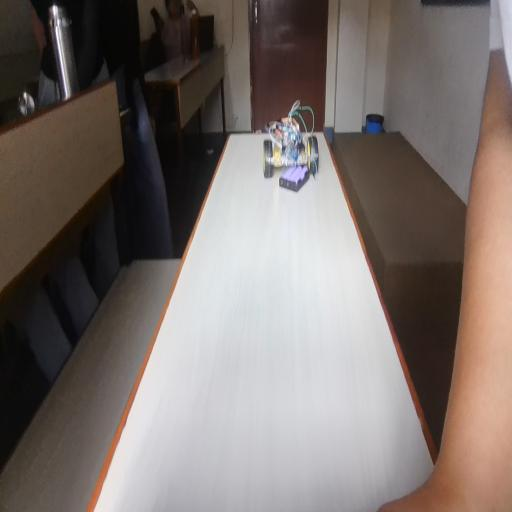car: (263, 89, 341, 198)
